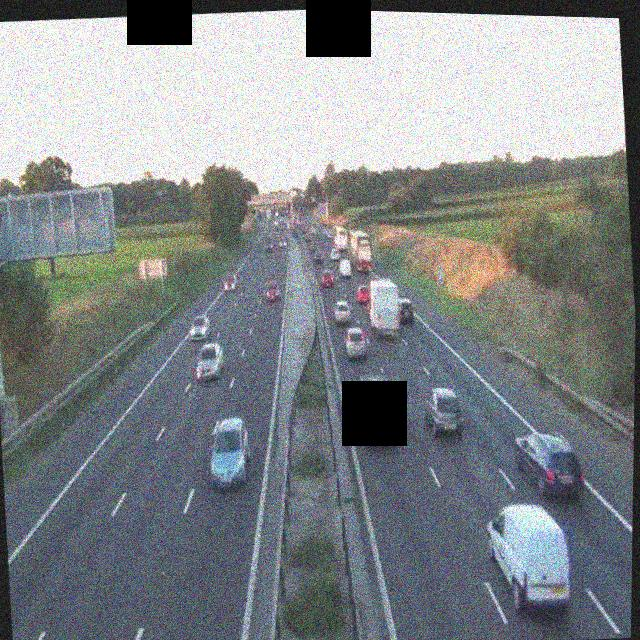bus: (349, 230, 373, 271), (333, 224, 349, 256)
car: (484, 500, 574, 615), (512, 429, 585, 504), (206, 414, 252, 489), (353, 375, 399, 446), (421, 383, 465, 437), (192, 341, 226, 382), (343, 326, 367, 360), (189, 313, 211, 340), (332, 298, 353, 325), (394, 296, 415, 323), (263, 278, 279, 302), (356, 282, 371, 304), (222, 273, 237, 292), (339, 257, 352, 278), (321, 269, 334, 288), (313, 249, 324, 264), (330, 246, 341, 260), (278, 235, 288, 248), (263, 238, 272, 252)
